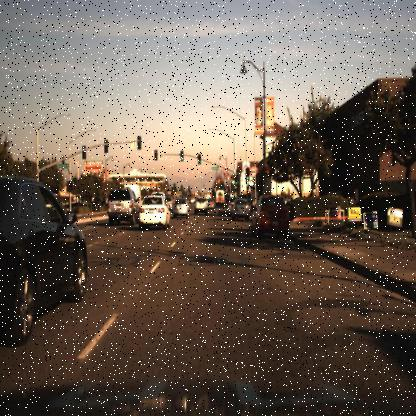car: (0, 174, 86, 342), (104, 184, 141, 230), (250, 193, 290, 234), (252, 194, 290, 233), (135, 192, 172, 230), (172, 196, 190, 222), (232, 194, 248, 221), (194, 194, 209, 216)
trafficLight-Green: (246, 162, 256, 184), (180, 147, 186, 167), (196, 152, 202, 168), (232, 174, 238, 189), (245, 166, 251, 180)
trafficLight-RedLeft: (151, 144, 159, 166)
truck: (213, 188, 225, 209)
